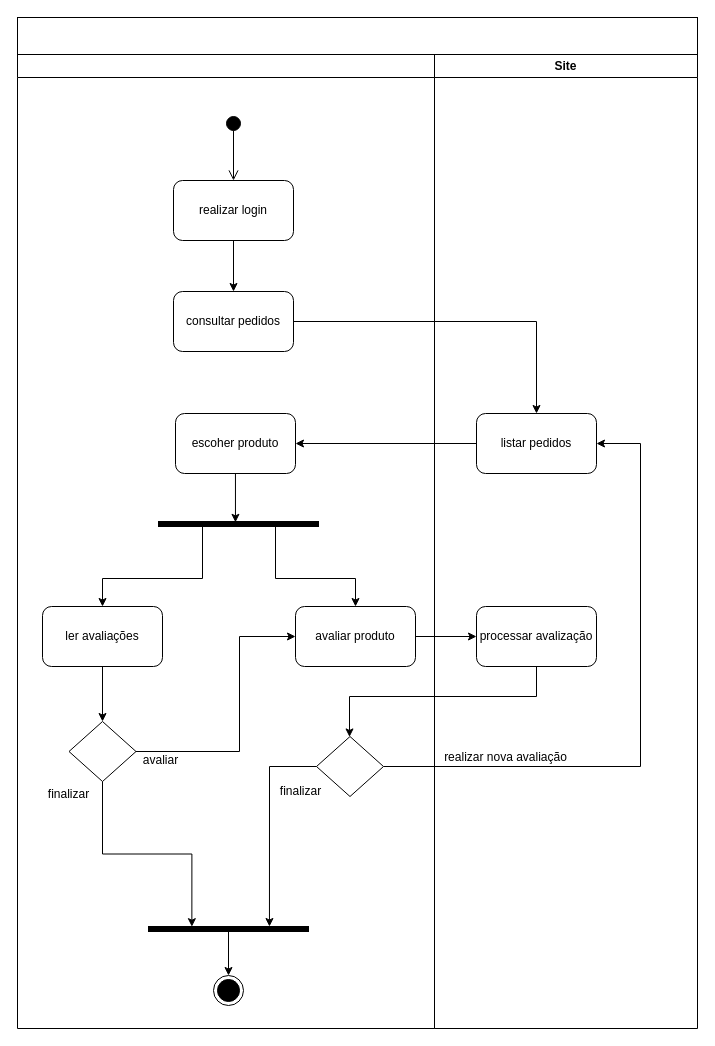
This 715x1046 diagram has some shape labels left out. The shapes that lost their labels are listed below. From the top down, each one's centre as x and y in pixels, then its label:
(357,35): Avaliar pedido
(225,541): Cliente
